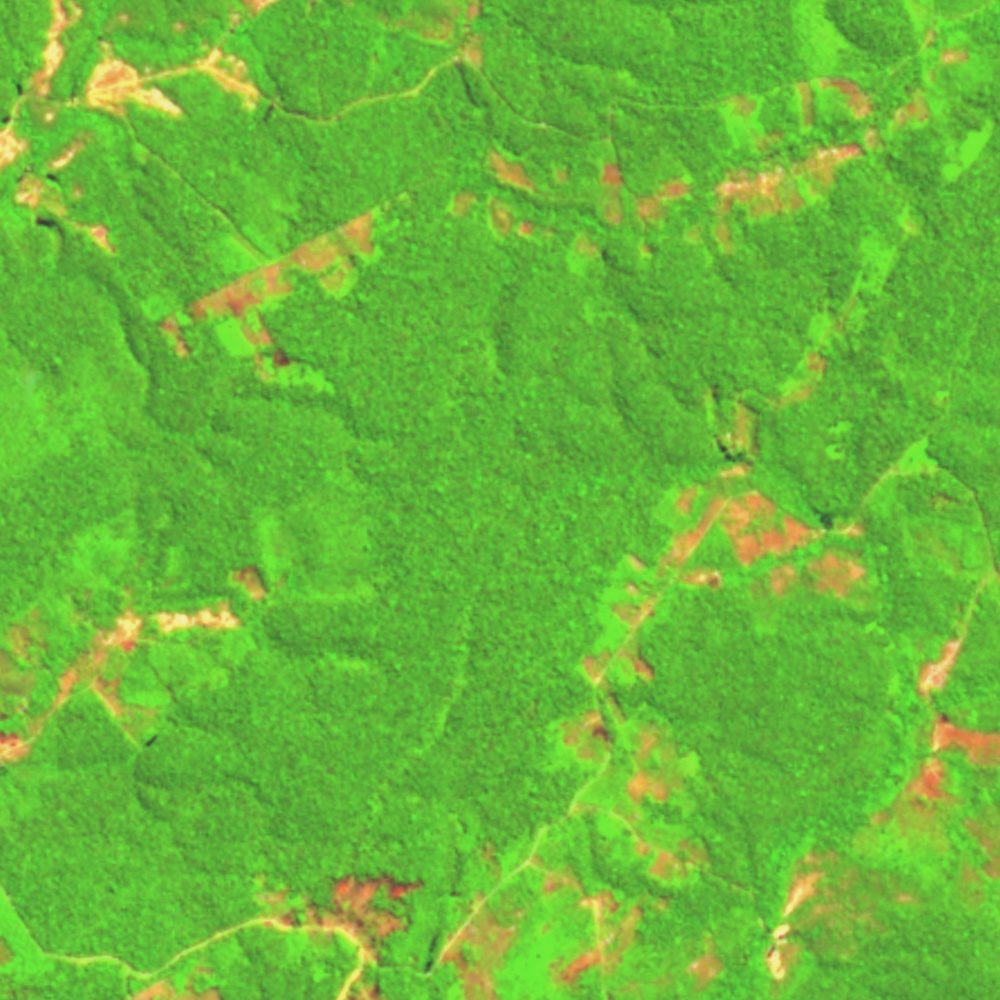legal: (573, 462, 872, 698), (149, 183, 426, 393), (1, 558, 281, 764), (712, 247, 899, 477), (444, 849, 727, 1000), (878, 571, 1000, 877), (545, 704, 719, 886), (456, 143, 700, 271), (14, 1, 267, 123), (249, 864, 437, 1000), (760, 843, 930, 988), (710, 142, 867, 252), (1, 128, 118, 256), (816, 68, 936, 150), (408, 1, 494, 77), (722, 78, 817, 130), (124, 962, 230, 1000), (922, 25, 972, 70)
